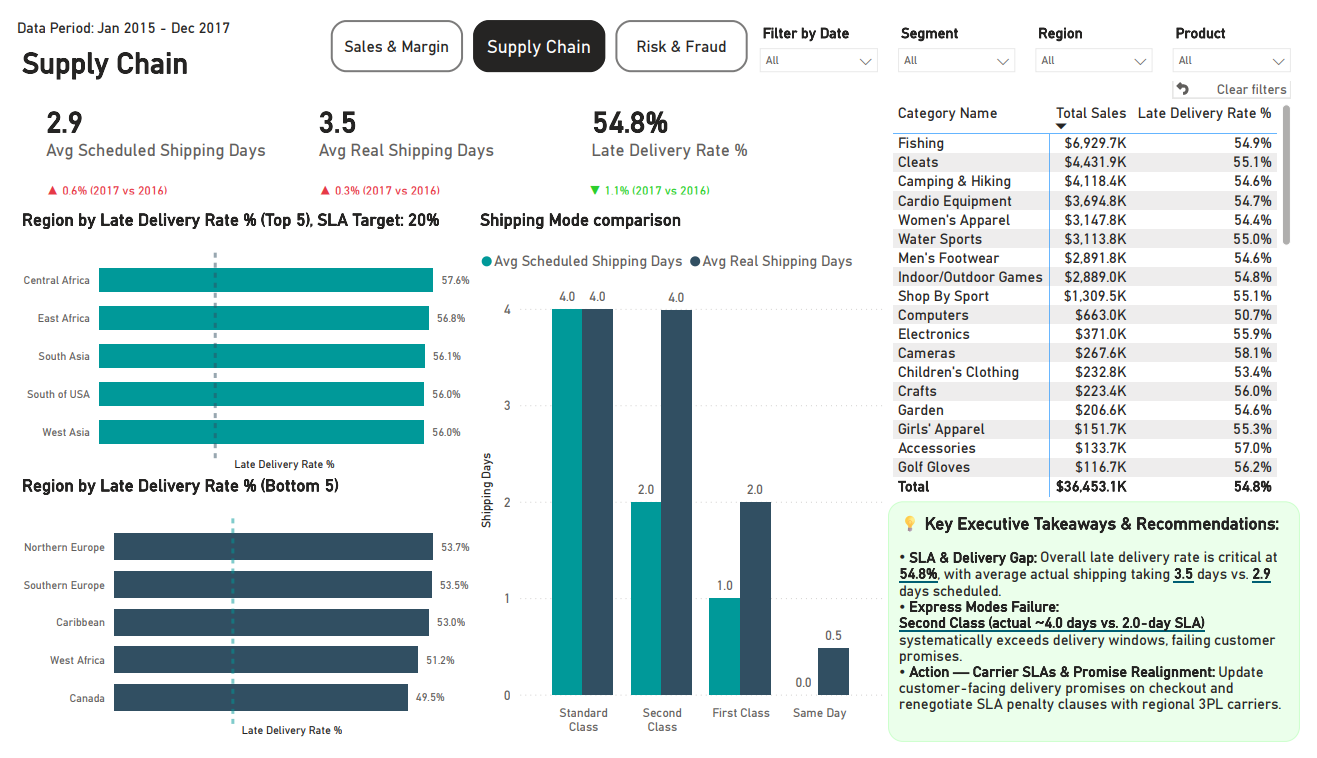

The page's visual inventory and layout, read from the dashboard file:
{"tool":"powerbi","page":{"name":"Supply Chain","canvas":[1280,720],"ordinal":1},"visuals":[{"type":"cardVisual","fields":{"Data":["_Measures.Avg Scheduled Shipping Days","_Measures.Avg Real Shipping Days","_Measures.Late Delivery Rate %"]},"box":[0,60,843.3,105],"z":0},{"type":"clusteredBarChart","title":"Region by Late Delivery Rate % (Top 5), SLA Target: 20%","fields":{"Y":["_Measures.Late Delivery Rate %"],"Category":["core dim_geography.order_region"]},"box":[0,188.6,457.1,265.7],"z":1000},{"type":"clusteredColumnChart","title":"Shipping Mode comparison","fields":{"Category":["core dim_shipping.shipping_mode"],"Y":["_Measures.Avg Scheduled Shipping Days","_Measures.Avg Real Shipping Days"]},"box":[457.1,188.6,411.4,531.4],"z":2000},{"type":"pivotTable","fields":{"Values":["_Measures.Total Sales","_Measures.Late Delivery Rate %"],"Rows":["core dim_products.category_name"]},"box":[868.6,78.6,407.1,401.4],"z":3000},{"type":"textbox","box":[868.6,480,411.4,240],"z":4000},{"type":"textbox","box":[0,21,251,46],"z":5000},{"type":"shape","box":[0,0,223.6,22.7],"z":6000},{"type":"actionButton","box":[1152.9,57.6,117.6,20.6],"z":7000},{"type":"slicer","fields":{"Values":["Dim_Calendar.Year","Dim_Calendar.Month Name"]},"box":[731.4,0,137.7,60],"z":8000},{"type":"cardVisual","fields":{"Data":["_Measures.Avg Scheduled Shipping Days YoY Formatted"]},"box":[0,145,200,46],"z":9000},{"type":"cardVisual","fields":{"Data":["_Measures.Avg Real Shipping Days YoY Formatted"]},"box":[272,145,200,46],"z":10000},{"type":"cardVisual","fields":{"Data":["_Measures.Late Delivery Rate % YoY Formetted"]},"box":[541,145,188,46],"z":11000},{"type":"slicer","fields":{"Values":["Dim_Products.category_name"]},"box":[1142.9,0,137.7,60],"z":12000},{"type":"slicer","fields":{"Values":["Dim_Geography.order_region"]},"box":[1005.7,0,137.7,60],"z":13000},{"type":"clusteredBarChart","title":"Region by Late Delivery Rate % (Bottom 5)","fields":{"Y":["_Measures.Late Delivery Rate %"],"Category":["core dim_geography.order_region"]},"box":[0,454.3,457.1,266],"z":14000},{"type":"pageNavigator","box":[312.9,0,418.3,51.7],"z":15000},{"type":"slicer","fields":{"Values":["Dim_Customers.segment"]},"box":[868.6,0,137.7,60],"z":16000}]}

Visuals, with their boxes in screenshot pixels (x1, y1, x2, y2), scaled from the page's 1280x720 canvas onto the 1317x758 screenshot:
cardVisual - _Measures.Avg Scheduled Shipping Days x _Measures.Avg Real Shipping Days: bbox(0, 63, 868, 174)
"Region by Late Delivery Rate % (Top 5), SLA Target: 20%" clusteredBarChart: bbox(0, 199, 470, 478)
"Shipping Mode comparison" clusteredColumnChart: bbox(470, 199, 894, 757)
pivotTable - _Measures.Total Sales x _Measures.Late Delivery Rate %: bbox(894, 83, 1313, 505)
textbox: bbox(894, 505, 1316, 757)
textbox: bbox(0, 22, 258, 71)
shape: bbox(0, 0, 230, 24)
actionButton: bbox(1186, 61, 1307, 82)
slicer - Dim_Calendar.Year x Dim_Calendar.Month Name: bbox(753, 0, 894, 63)
cardVisual - _Measures.Avg Scheduled Shipping Days YoY Formatted: bbox(0, 153, 206, 201)
cardVisual - _Measures.Avg Real Shipping Days YoY Formatted: bbox(280, 153, 486, 201)
cardVisual - _Measures.Late Delivery Rate % YoY Formetted: bbox(557, 153, 750, 201)
slicer - Dim_Products.category_name: bbox(1176, 0, 1316, 63)
slicer - Dim_Geography.order_region: bbox(1035, 0, 1176, 63)
"Region by Late Delivery Rate % (Bottom 5)" clusteredBarChart: bbox(0, 478, 470, 757)
pageNavigator: bbox(322, 0, 752, 54)
slicer - Dim_Customers.segment: bbox(894, 0, 1035, 63)
